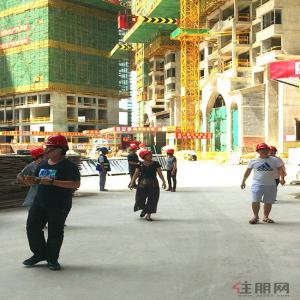blue: (100, 147, 111, 155)
red: (42, 135, 71, 161), (30, 147, 46, 163), (257, 143, 271, 157), (139, 150, 155, 161), (268, 146, 279, 156), (130, 146, 140, 154), (166, 149, 176, 157)
